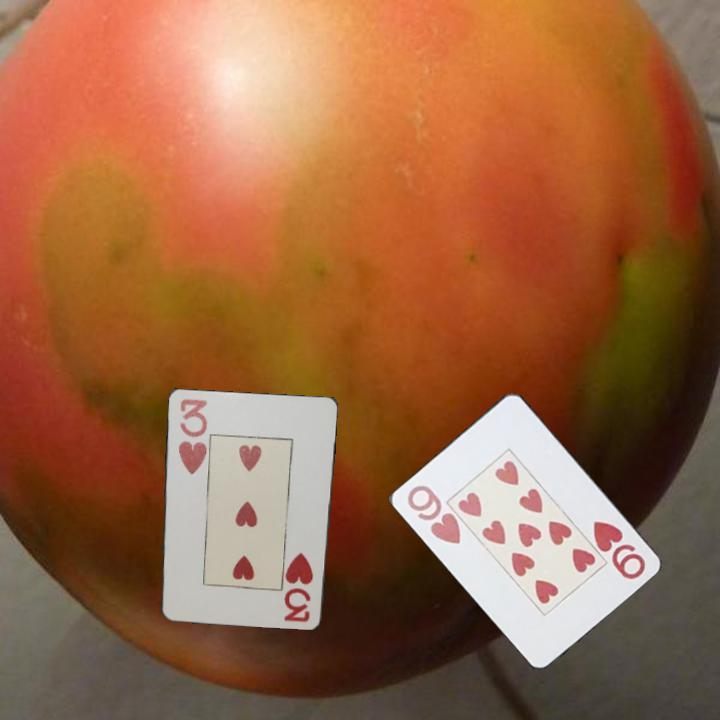3h: (175, 395, 210, 477), (283, 549, 316, 624)
9h: (587, 517, 648, 582), (403, 481, 463, 547)
